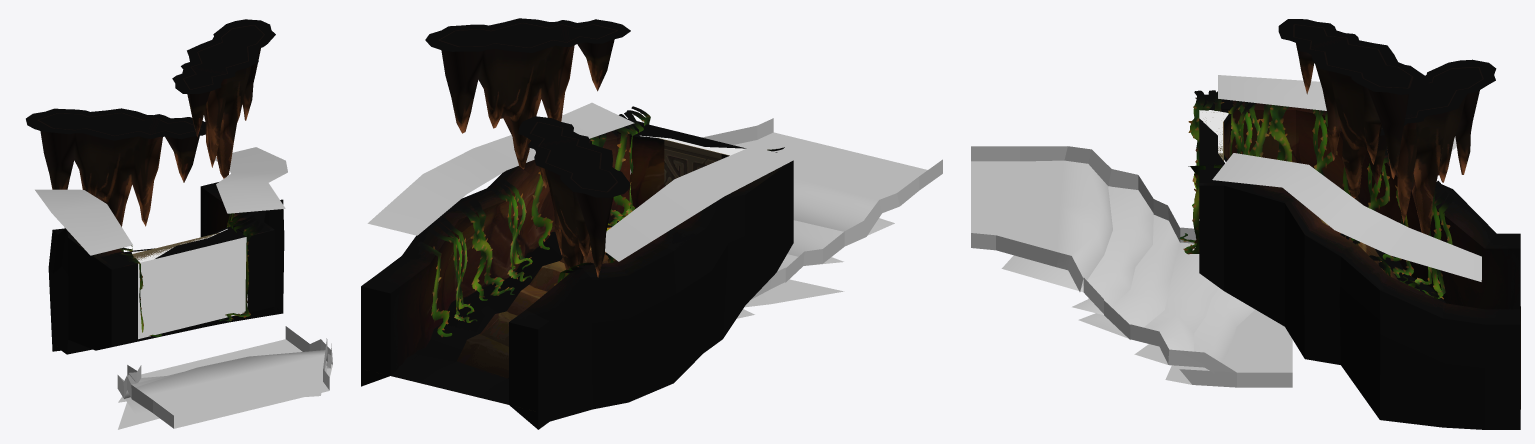
File: Dungeon_021_GoalStepD_003.fbx
3 views of the same model, side by side, from view 1: azimuth 30°, elevation 25°; view 2: azimuth 150°, elevation 25°; view 3: azimuth 270°, elevation 25° (orthographic). The views are drawn at different scales.
Parts seen in each view (by area): view 1: Dan1, Dan2 (1), Dungeon_011_Iwa004_1, DoorWay_NavMask (1), Dungeon_011_Iwa004_1 (1), Dungeon_021_Tsuta_002, Dungeon_021_Tsuta_001, Dun_011_Door_002_old, Dun_011_Door_003_WarpRoom; view 2: Dan1, Dan2 (1), Dungeon_011_Iwa004_1 (1), Dungeon_021_Tsuta_002, Dungeon_011_Iwa004_1, Dungeon_021_Tsuta_001, Dan1_shadow, Dan2, Dun_011_Door_002_old, Dun_011_Door_003_WarpRoom; view 3: Dan1, Dan2 (1), Dungeon_011_Iwa004_1 (1), Dungeon_021_Tsuta_002, Dungeon_011_Iwa004_1, Dungeon_021_Tsuta_001, Dun_011_Door_002_old.
Boxes of the visible parts, x1=… form: Dan1: x1=48, y1=182, x2=284, y2=354; Dan2 (1): x1=117, y1=326, x2=332, y2=429; Dungeon_011_Iwa004_1: x1=26, y1=108, x2=205, y2=226; DoorWay_NavMask (1): x1=136, y1=234, x2=247, y2=339; Dungeon_011_Iwa004_1 (1): x1=172, y1=19, x2=275, y2=178; Dungeon_021_Tsuta_002: x1=35, y1=147, x2=287, y2=255; Dungeon_021_Tsuta_001: x1=110, y1=211, x2=264, y2=336; Dun_011_Door_002_old: x1=101, y1=225, x2=270, y2=268; Dun_011_Door_003_WarpRoom: x1=132, y1=232, x2=219, y2=261; Dan1: x1=361, y1=131, x2=793, y2=429; Dan2 (1): x1=702, y1=118, x2=942, y2=318; Dungeon_011_Iwa004_1 (1): x1=425, y1=18, x2=630, y2=169; Dungeon_021_Tsuta_002: x1=367, y1=102, x2=797, y2=261; Dungeon_011_Iwa004_1: x1=518, y1=116, x2=630, y2=277; Dungeon_021_Tsuta_001: x1=417, y1=106, x2=784, y2=337; Dan1_shadow: x1=391, y1=220, x2=618, y2=403; Dan2: x1=391, y1=247, x2=692, y2=404; Dun_011_Door_002_old: x1=613, y1=119, x2=746, y2=208; Dun_011_Door_003_WarpRoom: x1=656, y1=137, x2=729, y2=186; Dan1: x1=1199, y1=94, x2=1520, y2=429; Dan2 (1): x1=971, y1=146, x2=1292, y2=387; Dungeon_011_Iwa004_1 (1): x1=1278, y1=19, x2=1428, y2=198; Dungeon_021_Tsuta_002: x1=1212, y1=75, x2=1481, y2=281; Dungeon_011_Iwa004_1: x1=1368, y1=59, x2=1496, y2=234; Dungeon_021_Tsuta_001: x1=1179, y1=90, x2=1455, y2=299; Dun_011_Door_002_old: x1=1199, y1=96, x2=1232, y2=182.
Size of what is drawn, in the model's own units: 8.47 by 7.6 by 11.5.
